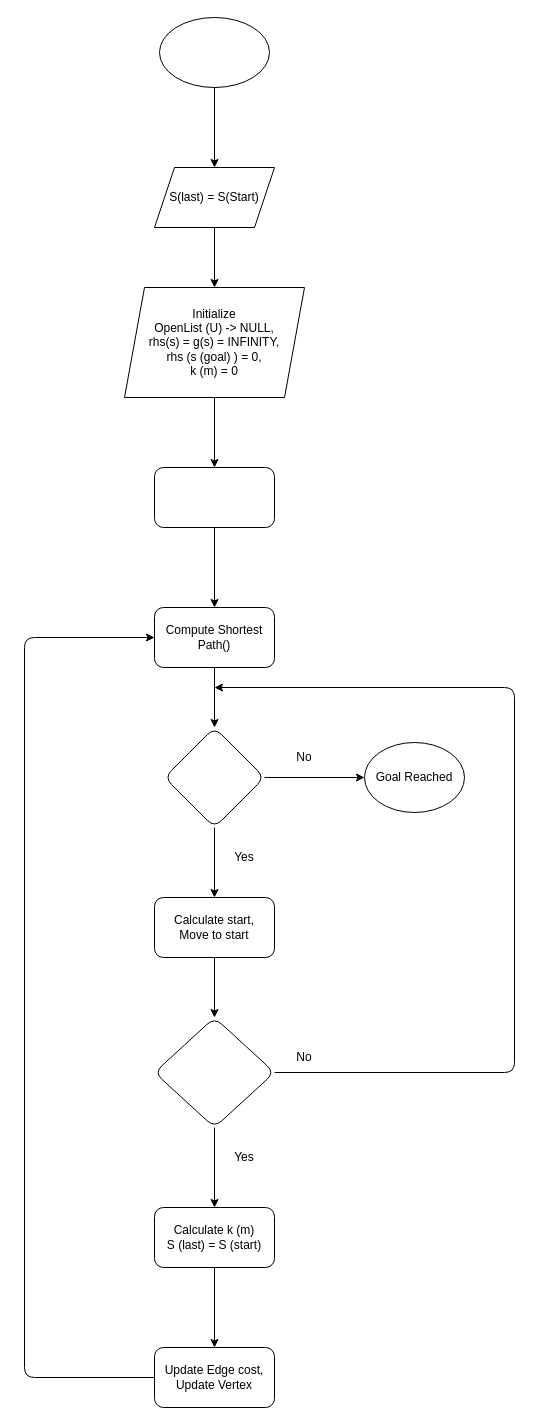
Some shapes in this 540 by 1425 pixel diagram are drawn without their labels. The centre of each missing label's shape, as x and y in pixels:
"If change in edge cost" goes at point (214, 1072).
"if S (start) != S (goal)" goes at point (214, 777).
"s (goal) -> OpenList" goes at point (214, 497).
"Start" goes at point (214, 52).
